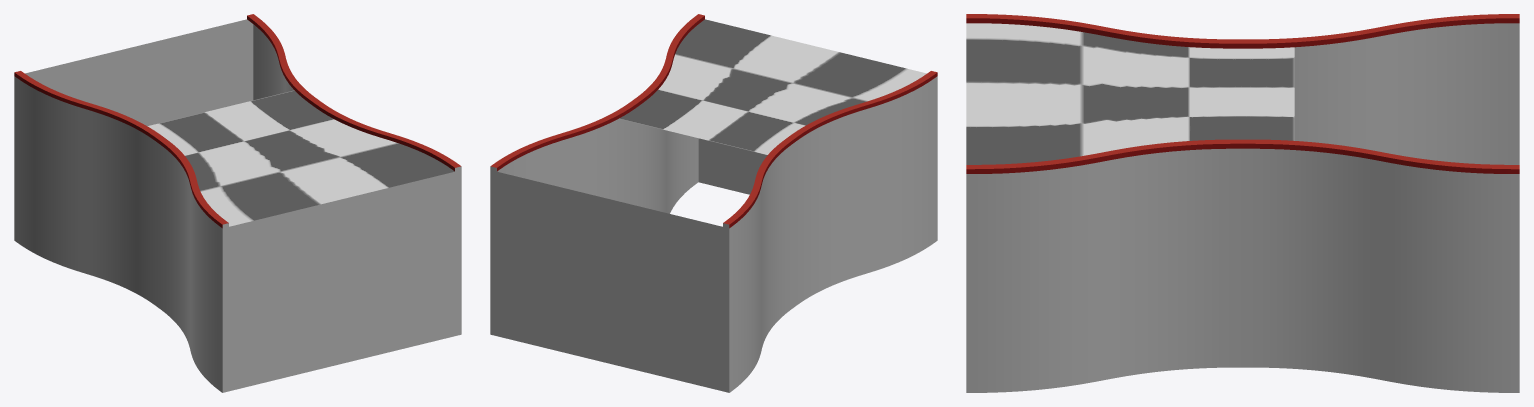
The model's file is Road_Curve_11.fbx.
3 views of the same model, side by side, from view 1: azimuth 30°, elevation 25°; view 2: azimuth 150°, elevation 25°; view 3: azimuth 270°, elevation 25° (orthographic). The views are drawn at different scales.
Parts seen in each view (by area): view 1: Road_Curve_11, Road_Curve_11_Boeder; view 2: Road_Curve_11, Road_Curve_11_Boeder; view 3: Road_Curve_11, Road_Curve_11_Boeder.
Part boxes in pixels (box(x1,y1,x2,y2)): Road_Curve_11: box(14, 19, 461, 392); Road_Curve_11_Boeder: box(14, 14, 461, 228); Road_Curve_11: box(490, 19, 937, 392); Road_Curve_11_Boeder: box(490, 14, 937, 228); Road_Curve_11: box(966, 23, 1519, 392); Road_Curve_11_Boeder: box(966, 14, 1519, 173).
Size of the model in its own units: 1303 by 876 by 1964.
